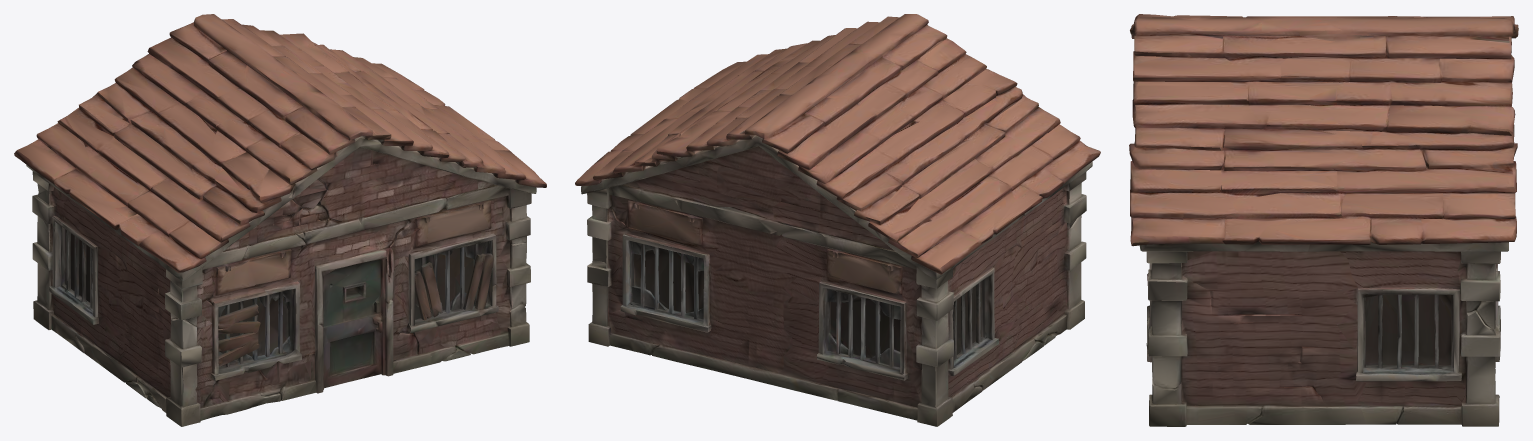
File: shack_brick_idle.glb
3 views of the same model, side by side, from view 1: azimuth 30°, elevation 25°; view 2: azimuth 150°, elevation 25°; view 3: azimuth 270°, elevation 25° (orthographic). The views are drawn at different scales.
Parts seen in each view (by area): view 1: tripo_node_9443356b-3d5c-4a68-b6ab-a86eb0ab3a4f; view 2: tripo_node_9443356b-3d5c-4a68-b6ab-a86eb0ab3a4f; view 3: tripo_node_9443356b-3d5c-4a68-b6ab-a86eb0ab3a4f.
Part boxes in pixels (box(x1,y1,x2,y2)): tripo_node_9443356b-3d5c-4a68-b6ab-a86eb0ab3a4f: box(14, 14, 546, 426); tripo_node_9443356b-3d5c-4a68-b6ab-a86eb0ab3a4f: box(575, 14, 1100, 426); tripo_node_9443356b-3d5c-4a68-b6ab-a86eb0ab3a4f: box(1129, 14, 1518, 426).
Size of the model in its own units: 6 by 3.96 by 4.58.
Materials: 1 (1 with a texture image).
